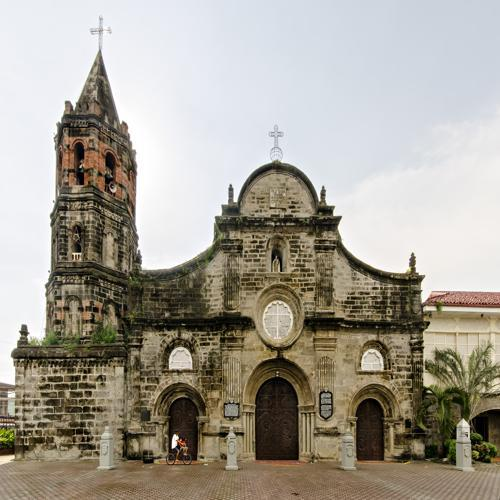Barasoain Church: (28, 12, 425, 466)
